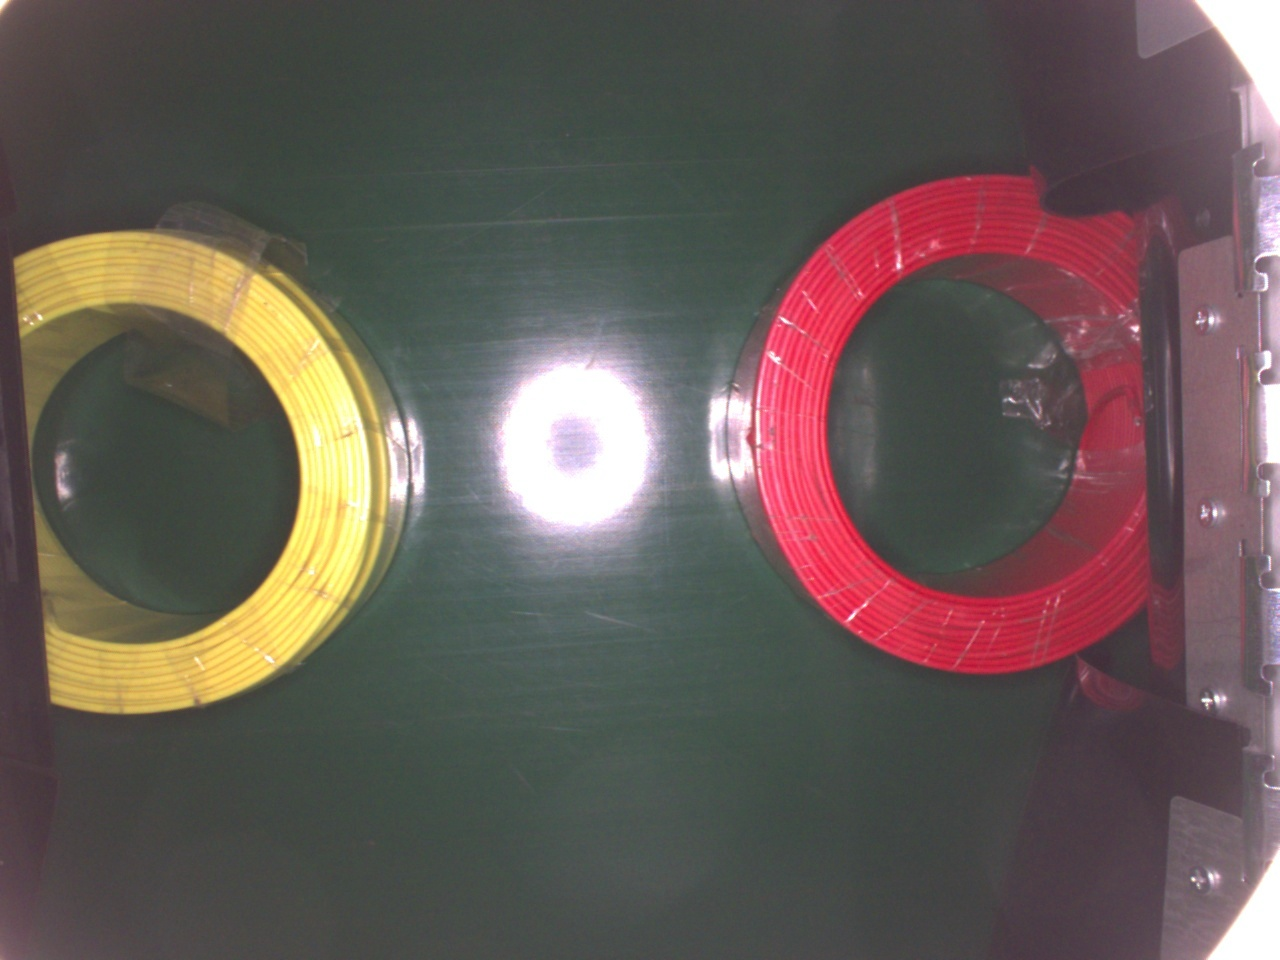red: (723, 172, 1151, 677)
yellow: (17, 228, 418, 724)
